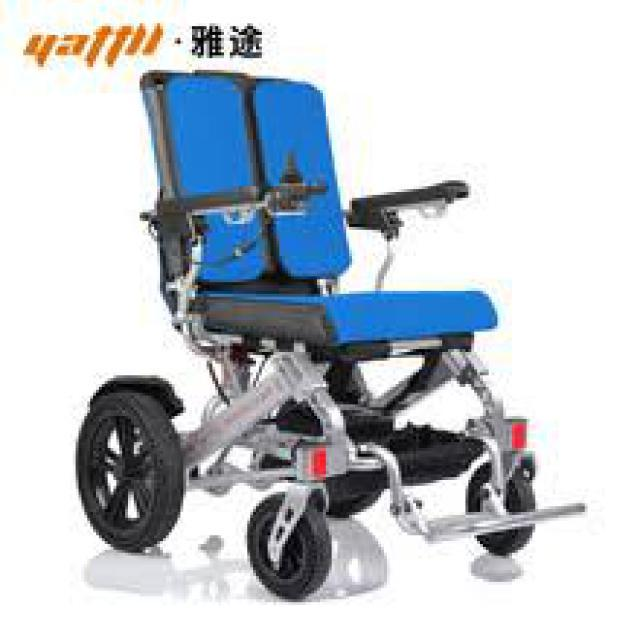wheelchair: (50, 61, 600, 620)
